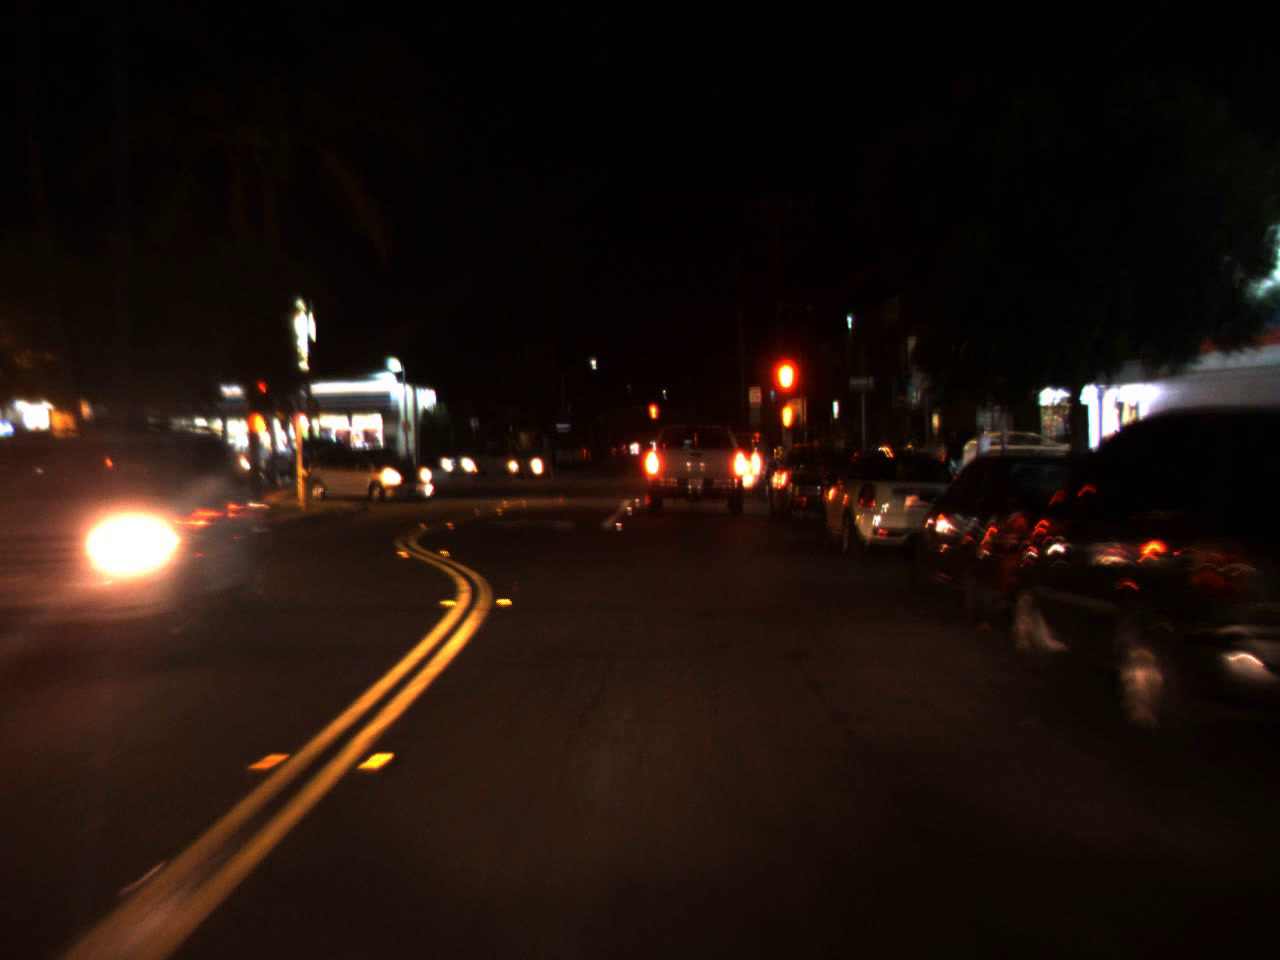stop: (771, 360, 796, 408), (648, 400, 660, 437), (258, 382, 267, 403)
